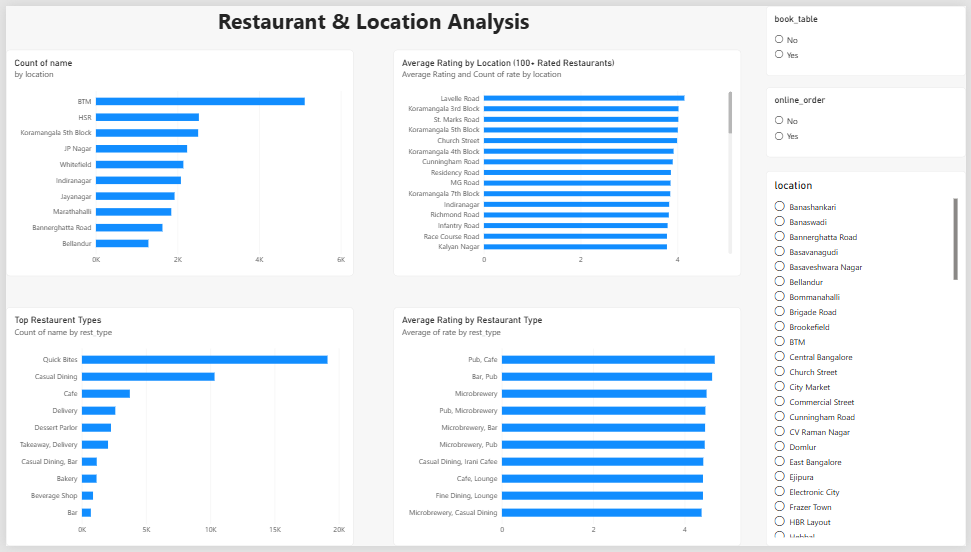

The page's visual inventory and layout, read from the dashboard file:
{"tool":"powerbi","page":{"name":"Restaurant & Location Analysis","canvas":[1920,1080],"ordinal":1},"visuals":[{"type":"clusteredBarChart","fields":{"Category":["zomato_cleaned.location"],"Y":["CountNonNull(zomato_cleaned.name)"]},"box":[0,87.5,695,452.5],"z":0},{"type":"clusteredBarChart","title":"Average Rating by Location (100+ Rated Restaurants)","fields":{"Category":["zomato_cleaned.location"],"Y":["zomato_cleaned.Average Rating"]},"box":[775,87.5,695,452.5],"z":1000},{"type":"barChart","title":"Top Restaurent Types","fields":{"Category":["zomato_cleaned.rest_type"],"Y":["CountNonNull(zomato_cleaned.name)"]},"box":[0,602.5,695,477.5],"z":2000},{"type":"barChart","title":"Average Rating by Restaurant Type","fields":{"Category":["zomato_cleaned.rest_type"],"Y":["Avg(zomato_cleaned.rate)"]},"box":[775,602.5,695,477.5],"z":3000},{"type":"listSlicer","fields":{"Values":["zomato_cleaned.book_table"]},"box":[1520,0,400,140],"z":4000},{"type":"listSlicer","fields":{"Values":["zomato_cleaned.location"]},"box":[1520,330,400,750],"z":5000},{"type":"listSlicer","fields":{"Values":["zomato_cleaned.online_order"]},"box":[1520,162.5,400,140],"z":6000},{"type":"textbox","box":[0,0,1470,150],"z":6001}]}

Visuals, with their boxes in screenshot pixels (x1, y1, x2, y2), scaled from the page's 1920x1080 canvas onto the 971x552 screenshot:
clusteredBarChart - zomato_cleaned.location x CountNonNull(zomato_cleaned.name): l=0, t=45, r=351, b=276
"Average Rating by Location (100+ Rated Restaurants)" clusteredBarChart: l=392, t=45, r=743, b=276
"Top Restaurent Types" barChart: l=0, t=308, r=351, b=551
"Average Rating by Restaurant Type" barChart: l=392, t=308, r=743, b=551
listSlicer - zomato_cleaned.book_table: l=769, t=0, r=970, b=72
listSlicer - zomato_cleaned.location: l=769, t=169, r=970, b=551
listSlicer - zomato_cleaned.online_order: l=769, t=83, r=970, b=155
textbox: l=0, t=0, r=743, b=77
